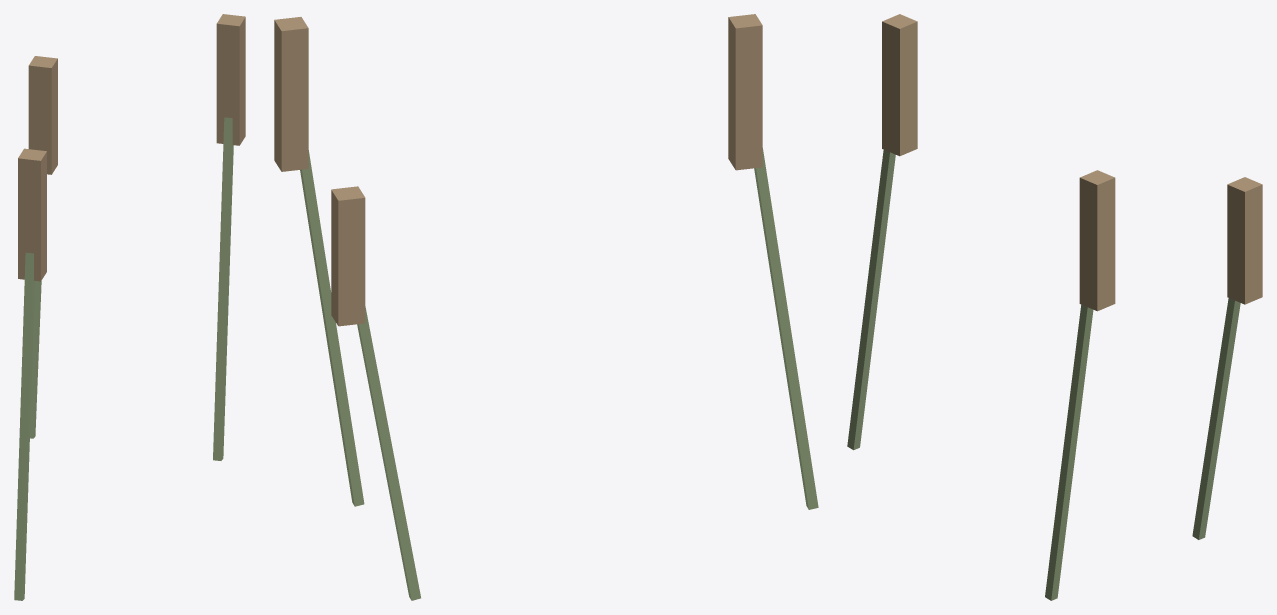
The picture shows the model from 3 angles, left to right: view 1: azimuth 30°, elevation 25°; view 2: azimuth 150°, elevation 25°; view 3: azimuth 270°, elevation 25°; orthographic projection. The views are drawn at different scales.
Size of the model in its own units: 1.19 by 1.38 by 1.17.
